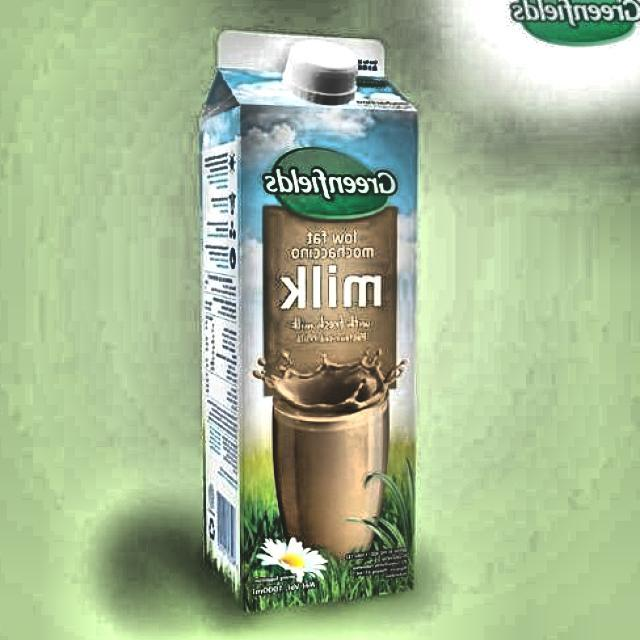cardboard: (199, 30, 421, 611)
